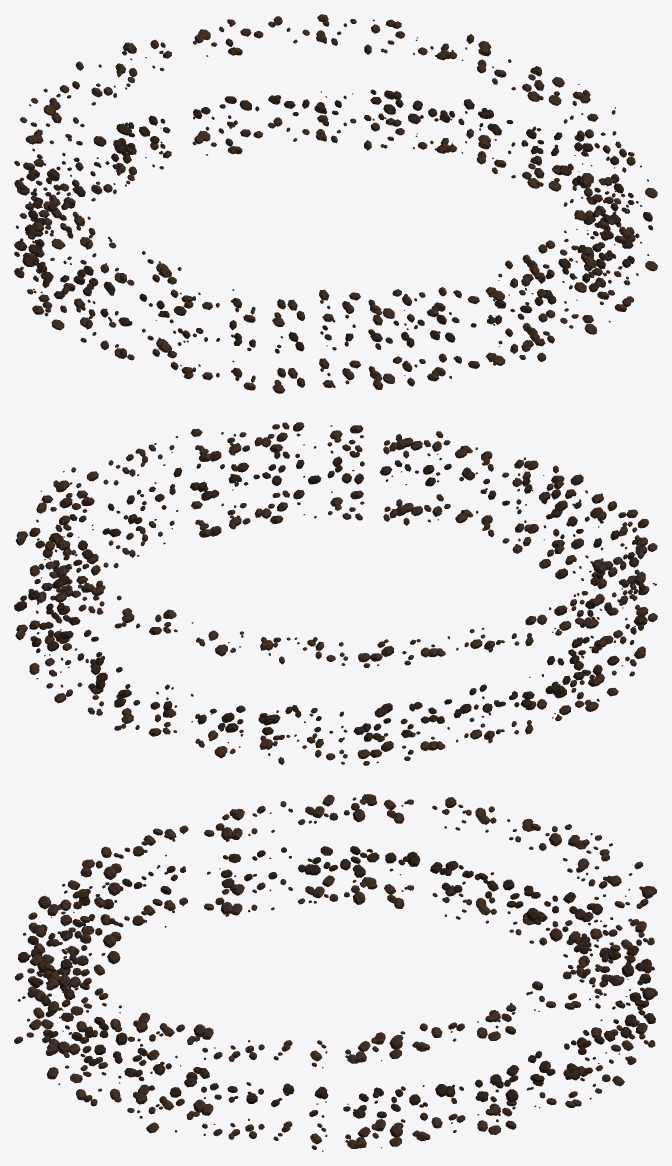
The model's file is asteorids.glb.
The picture shows the model from 3 angles, top to bottom: view 1: azimuth 30°, elevation 25°; view 2: azimuth 150°, elevation 25°; view 3: azimuth 270°, elevation 25°; orthographic projection.
Parts seen in each view (by area): view 1: cadena 2, cadena1, cadena 2.001; view 2: cadena 2, cadena1, cadena 2.001; view 3: cadena 2, cadena1, cadena 2.001.
Boxes of the visible parts, <box> form: cadena 2: <box>14,14,657,326</box>; cadena1: <box>14,89,653,353</box>; cadena 2.001: <box>14,115,657,393</box>; cadena 2: <box>15,422,657,667</box>; cadena1: <box>14,450,656,741</box>; cadena 2.001: <box>15,489,657,765</box>; cadena 2: <box>14,794,656,1068</box>; cadena1: <box>17,846,655,1118</box>; cadena 2.001: <box>14,875,657,1151</box>.
Bounding box in the file's own units: 18.13 × 3.48 × 18.04.
